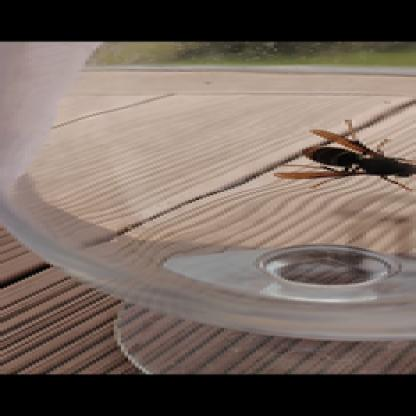Asian Hornet: (263, 117, 413, 187)
